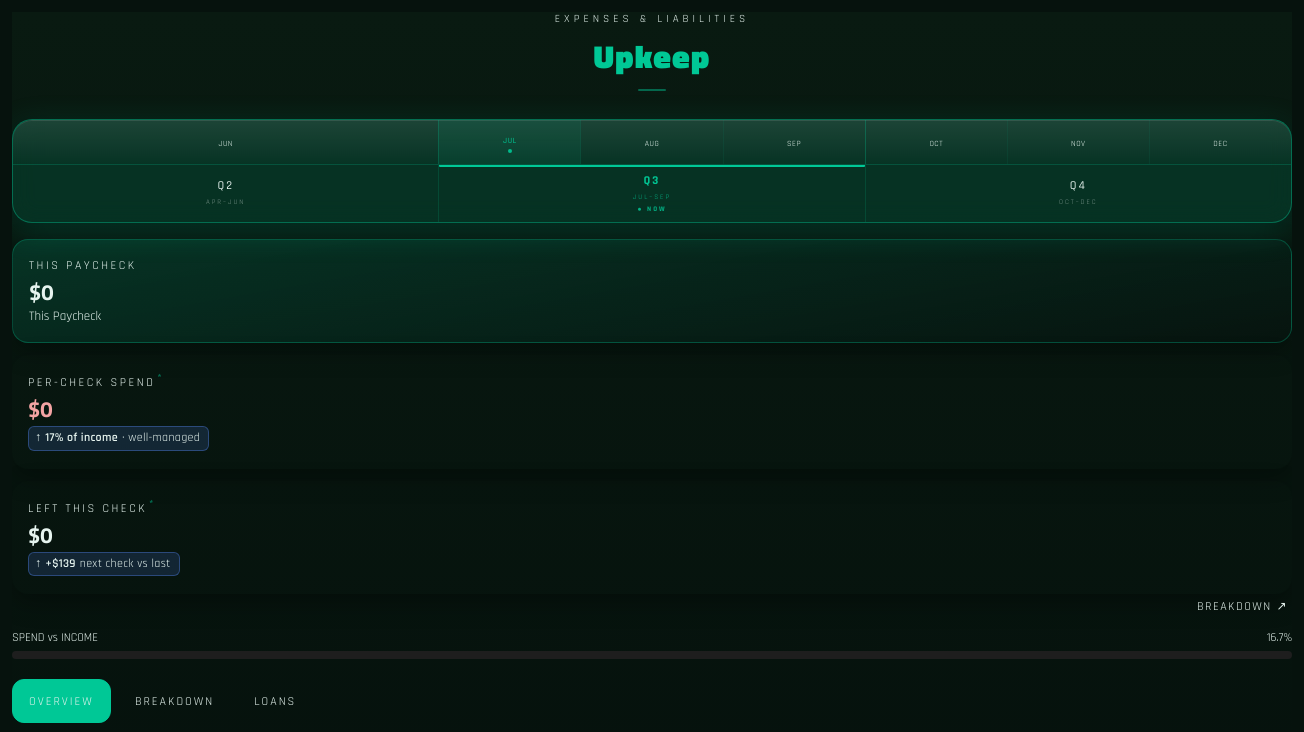
BudgetPanel › lands on the future-quarter "First Check" card on a biweekly schedule
Click the button "Q4Oct–Dec" at (1078, 193), box [866,165,1291,222]
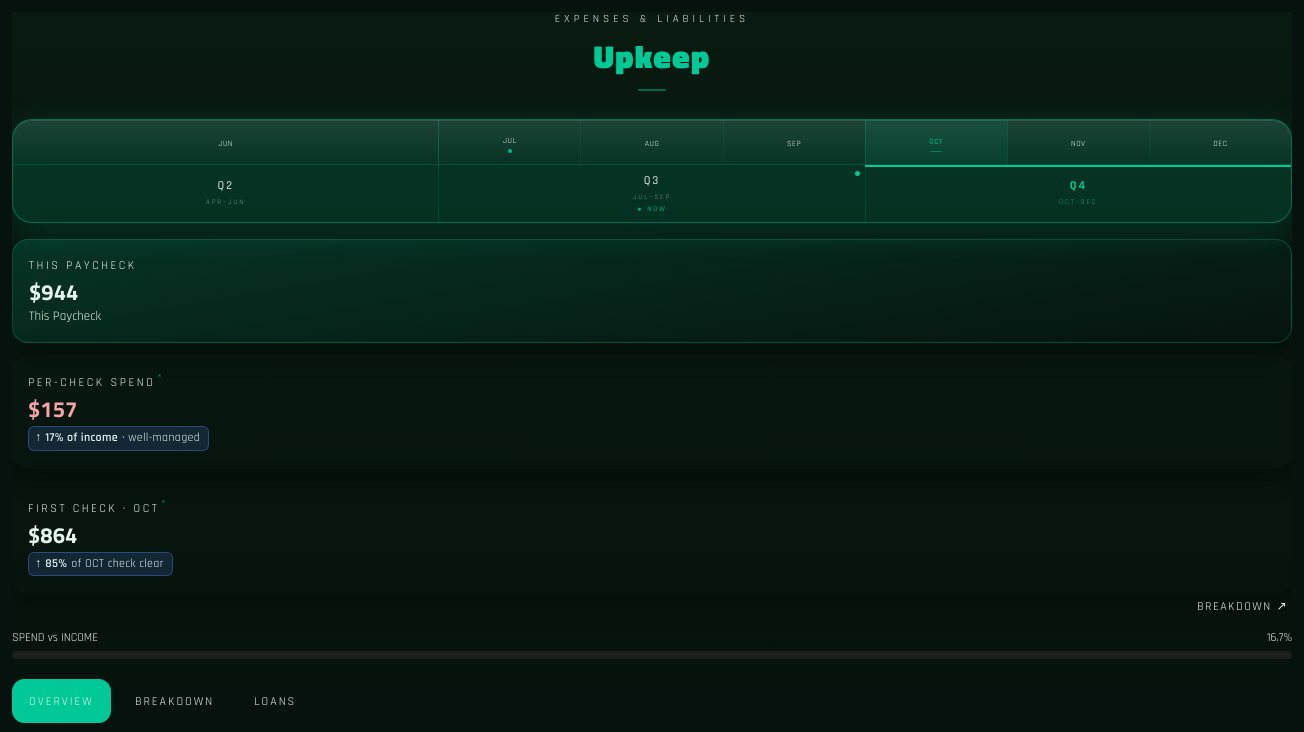
Expected: the text "First Check · OCT *" is shown, [28,497,168,516]
